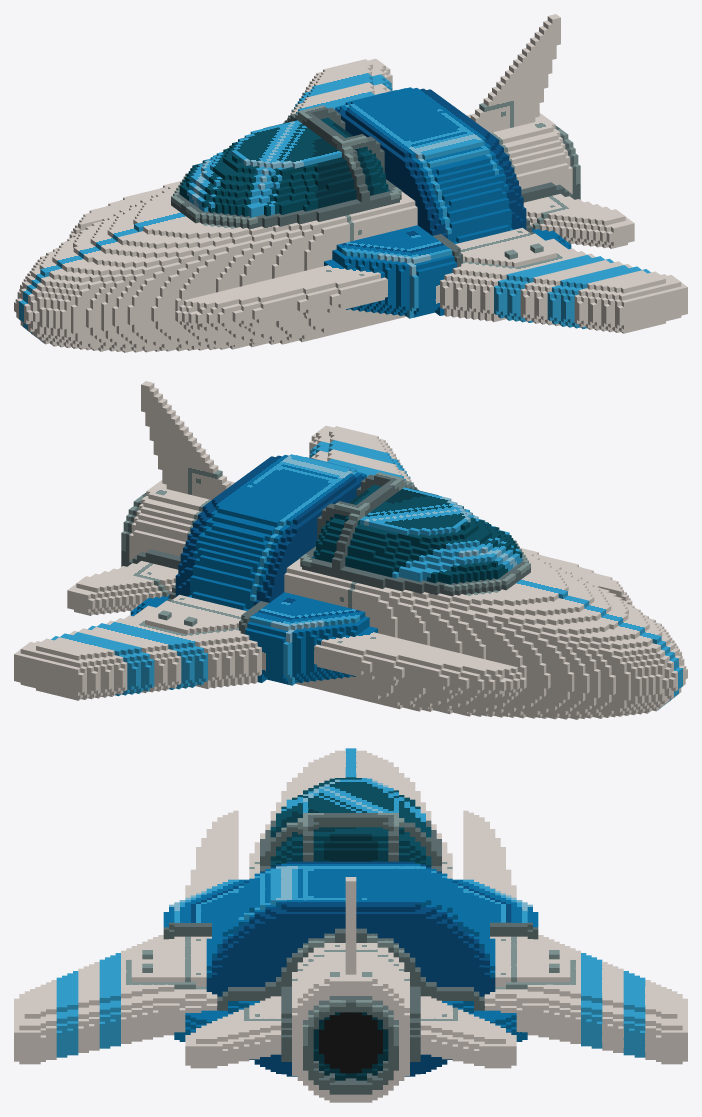
File: ship.gltf
3 renders of one model, top to bottom at view 1: azimuth 30°, elevation 25°; view 2: azimuth 150°, elevation 25°; view 3: azimuth 270°, elevation 25°, orthographic. The views are drawn at different scales.
Parts seen in each view (by area): view 1: Spaceship_Body-Local; view 2: Spaceship_Body-Local; view 3: Spaceship_Body-Local.
Part boxes in pixels (bbox=[...]): Spaceship_Body-Local: bbox=[14, 14, 687, 352]; Spaceship_Body-Local: bbox=[14, 381, 687, 719]; Spaceship_Body-Local: bbox=[14, 748, 687, 1102].
Size of the model in its own units: 126 by 52 by 126.
Materials: 1 (1 with a texture image).
